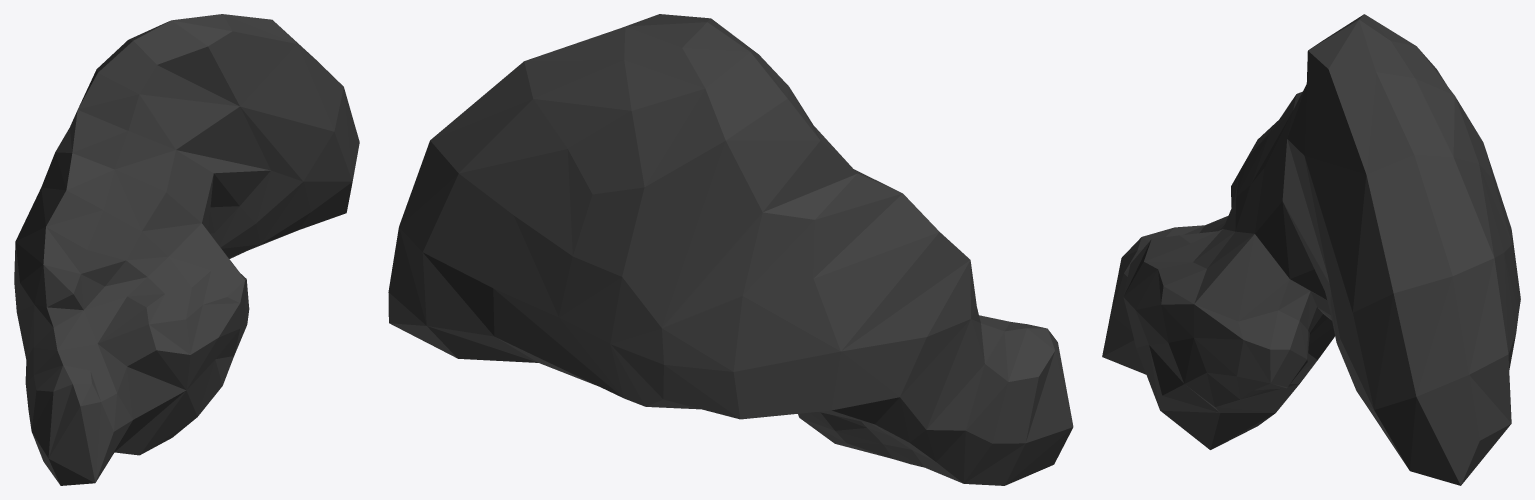
Rendered from First_tarsal_L.glb.
3 renders of one model, left to right at view 1: azimuth 30°, elevation 25°; view 2: azimuth 150°, elevation 25°; view 3: azimuth 270°, elevation 25°, orthographic. The views are drawn at different scales.
Parts seen in each view (by area): view 1: First_tarsal_L; view 2: First_tarsal_L; view 3: First_tarsal_L.
Part boxes in pixels (x1,y1,x2,y2): First_tarsal_L: (14, 14, 359, 485); First_tarsal_L: (388, 14, 1073, 485); First_tarsal_L: (1102, 14, 1520, 485).
Bounding box in the file's own units: 0.0551 × 0.0458 × 0.0373.
1 material, 1 textured.
